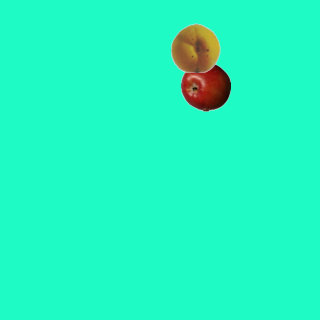Apple Braeburn: (180, 61, 230, 111)
Peach 2: (170, 22, 220, 72)
